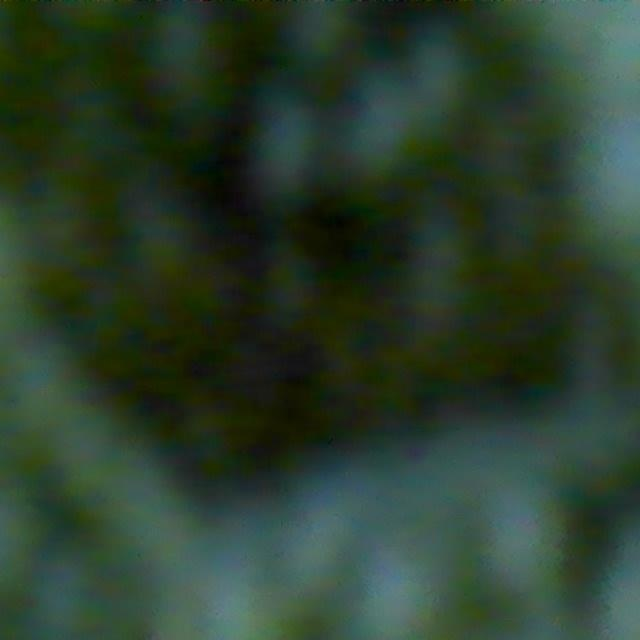SeaGrape: (459, 491, 569, 600), (175, 554, 299, 640), (352, 543, 452, 640), (247, 101, 324, 191), (282, 0, 354, 60)
